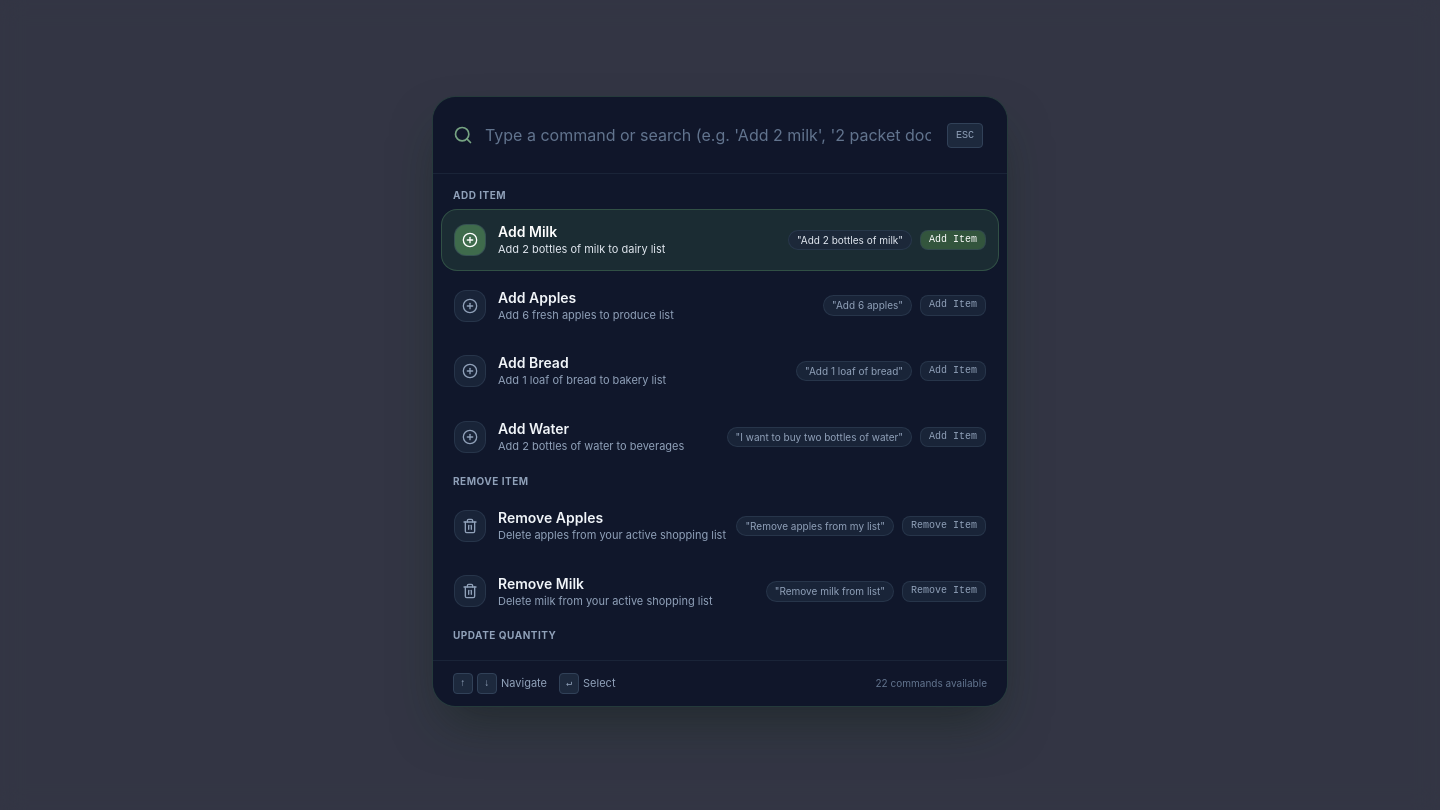
CommandPalette Component & useCommandPalette Hook Suite › CommandPalette UI & Interaction › filters suggestions as user types into search input
Replace the text in the dropdown with placeholder "Type a command or search" with "milk": (708, 135) [485,123,931,147]
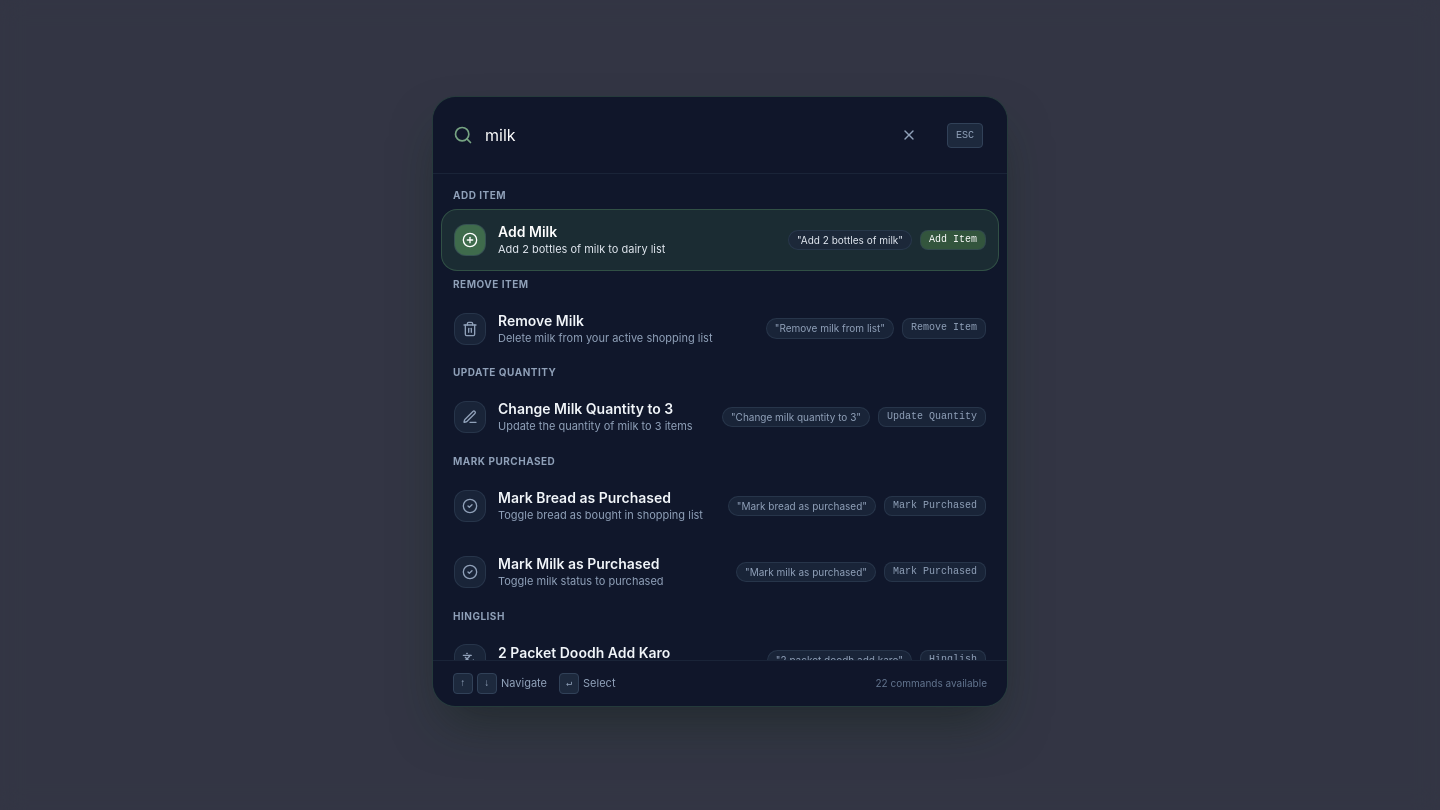
Expected: the text "Add Milk" is shown, [498,223,557,240]
Now the text "Change Milk Quantity to 3" is shown, box [498,399,693,419]
Now the text "Mark Milk as Purchased" is shown, box [498,554,664,574]
